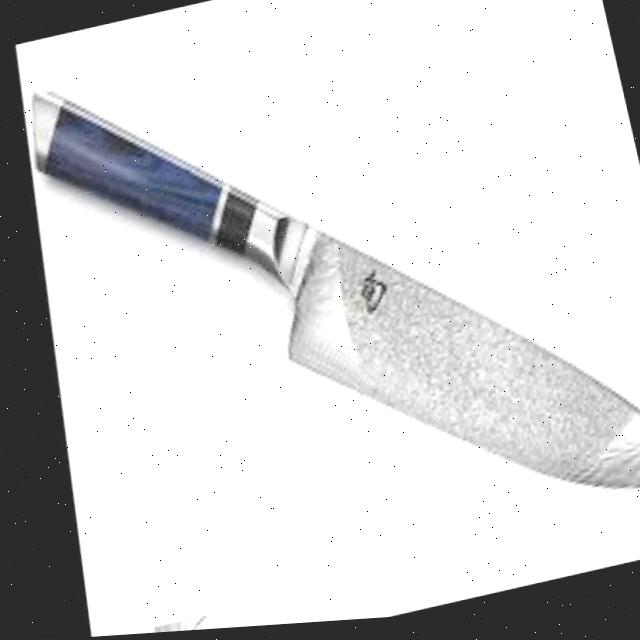knife: (12, 0, 640, 614)
